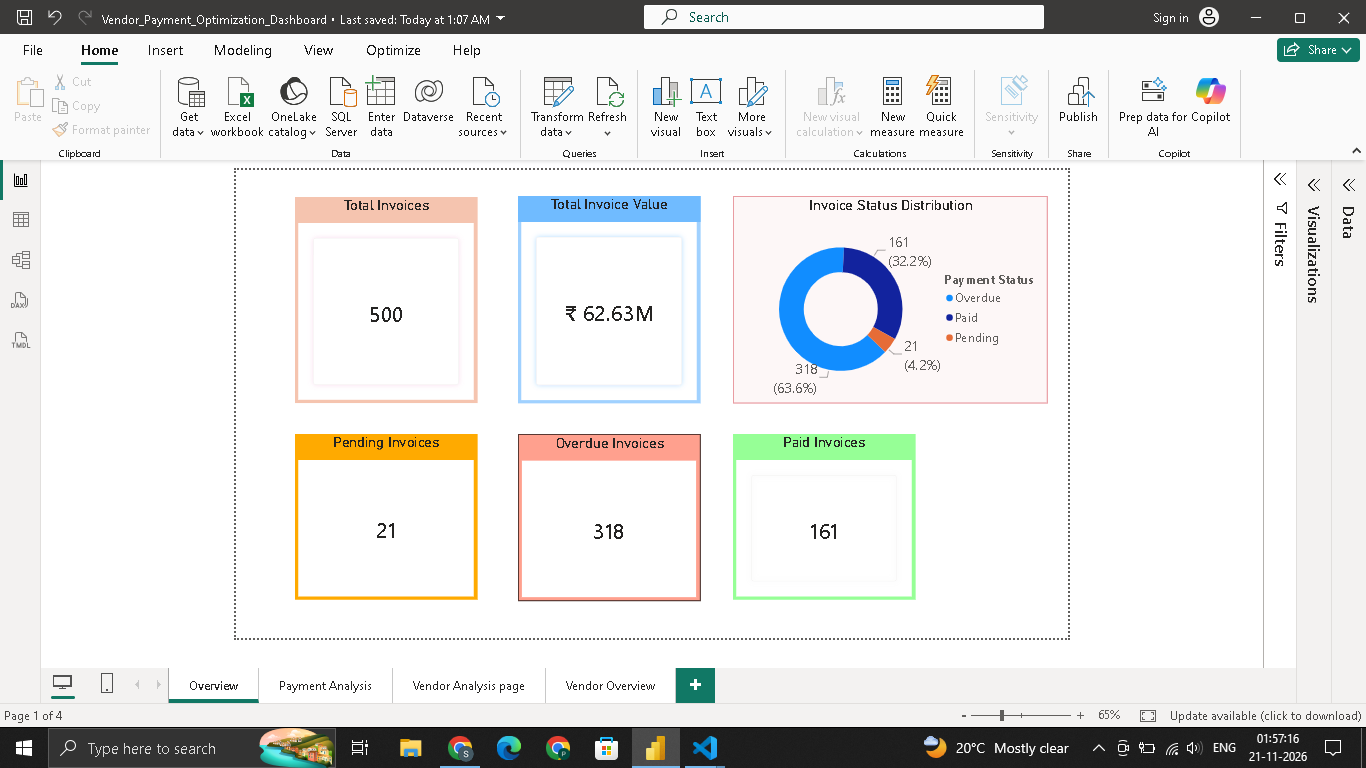

What the dashboard file says about the page in this screenshot:
{"tool":"powerbi","page":{"name":"Overview","canvas":[1280,720],"ordinal":0},"visuals":[{"type":"cardVisual","title":"Total Invoices","fields":{"Data":["Sum(dashboard_kpis.value)"]},"box":[90.7,42,280.5,317.5],"z":0},{"type":"cardVisual","title":"Total Invoice Value","fields":{"Data":["Sum(dashboard_kpis.value)"]},"box":[433.4,40.3,280.5,319.2],"z":1000},{"type":"cardVisual","title":"Paid Invoices","fields":{"Data":["Sum(dashboard_kpis.value)"]},"box":[764.3,406.5,280.5,255.3],"z":2000},{"type":"cardVisual","title":"Overdue Invoices","fields":{"Data":["Sum(dashboard_kpis.value)"]},"box":[433.4,406.5,280.5,257],"z":3000},{"type":"cardVisual","title":"Pending Invoices","fields":{"Data":["Sum(dashboard_kpis.value)"]},"box":[90.7,406.5,280.5,255.3],"z":4000},{"type":"donutChart","title":"Invoice Status Distribution","fields":{"Category":["payment_status_summary.payment_status"],"Y":["Sum(payment_status_summary.invoice_count)"]},"box":[764.3,40.3,483.8,319.2],"z":5000}]}

Visuals, with their boxes on the page's 1280x720 design canvas (x1, y1, x2, y2). These are canvas units, not pixel positions in the 1366x768 screenshot, which may show the page scaled, cropped or inside an application window:
"Total Invoices" cardVisual: locate(91, 42, 371, 360)
"Total Invoice Value" cardVisual: locate(433, 40, 714, 360)
"Paid Invoices" cardVisual: locate(764, 406, 1045, 662)
"Overdue Invoices" cardVisual: locate(433, 406, 714, 664)
"Pending Invoices" cardVisual: locate(91, 406, 371, 662)
"Invoice Status Distribution" donutChart: locate(764, 40, 1248, 360)
